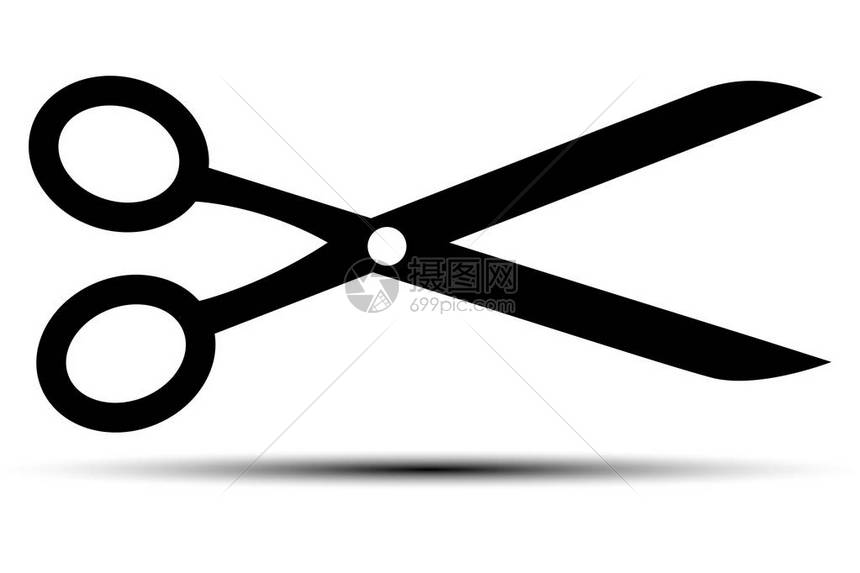scissors: (21, 73, 852, 436)
